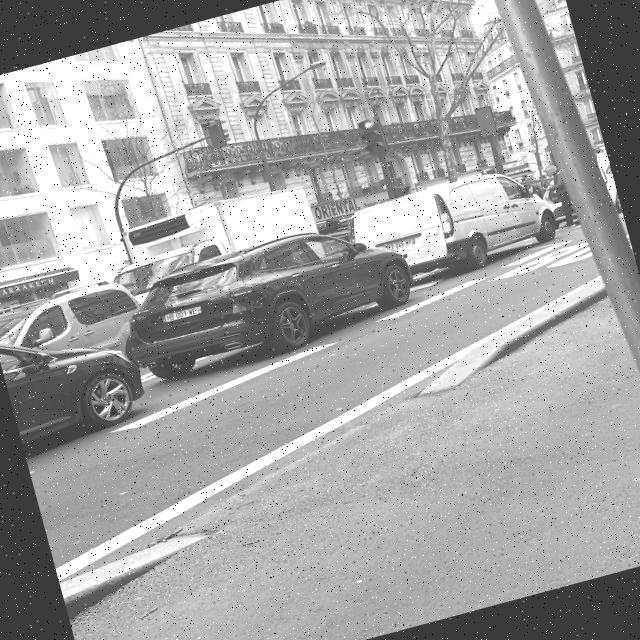Autre: (159, 299, 210, 324), (371, 228, 424, 252)
